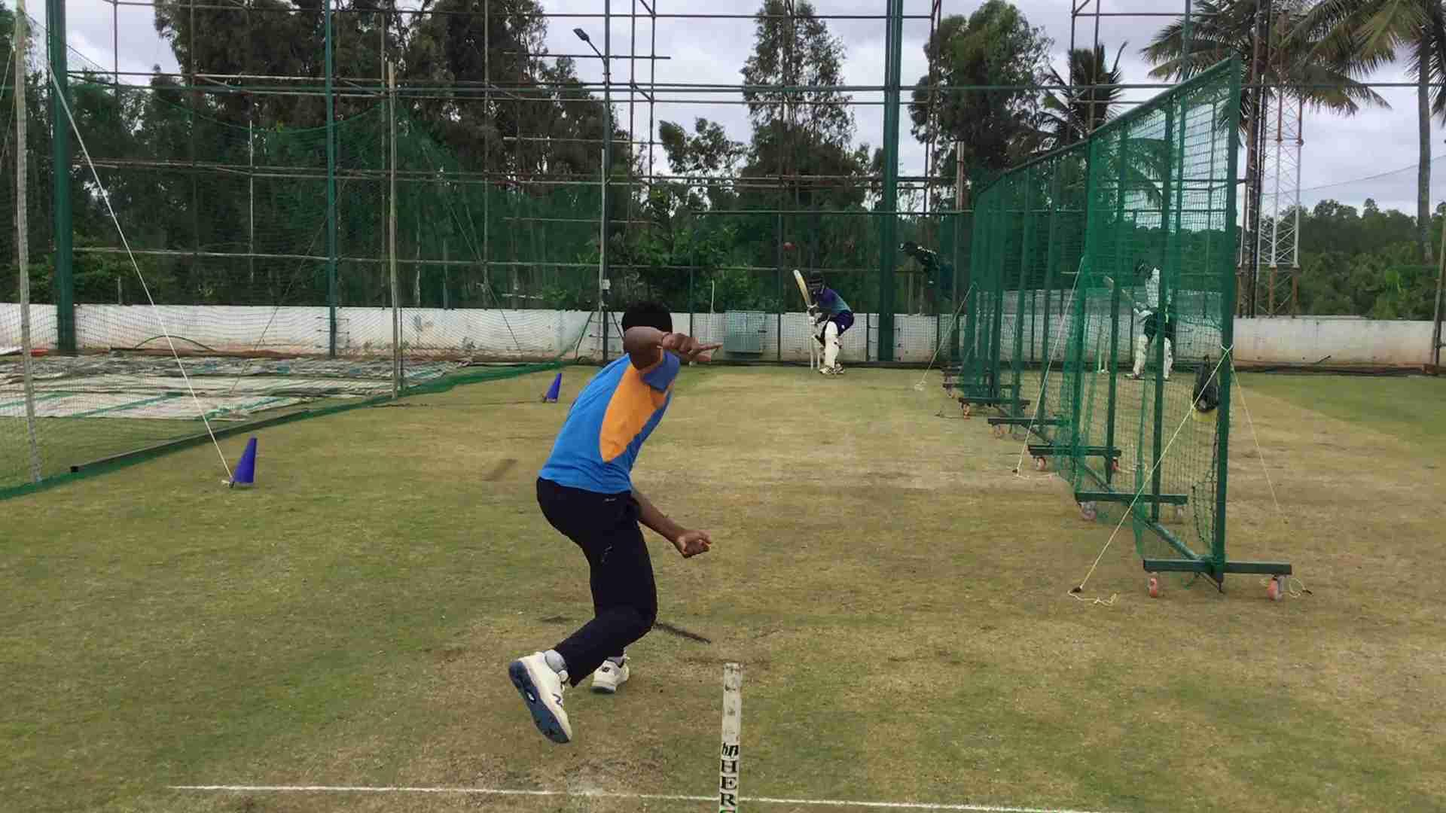batsman: (801, 269, 858, 378)
